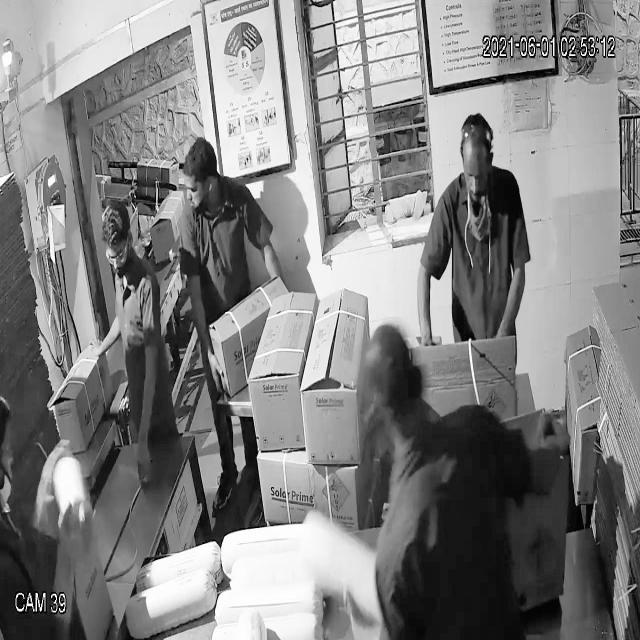glasses: (99, 237, 139, 274)
